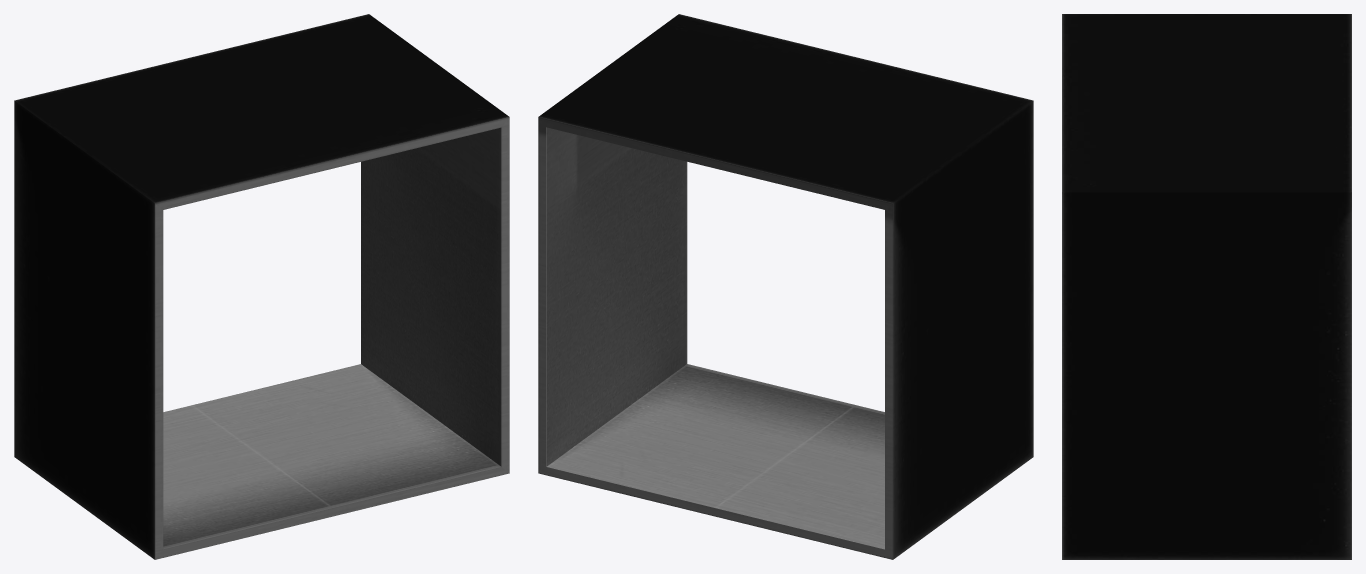
The model's file is case_4.gltf.
3 renders of one model, left to right at view 1: azimuth 30°, elevation 25°; view 2: azimuth 150°, elevation 25°; view 3: azimuth 270°, elevation 25°, orthographic. The views are drawn at different scales.
Parts seen in each view (by area): view 1: case_4; view 2: case_4; view 3: case_4.
Part boxes in pixels (x1,y1,x2,y2): case_4: (14, 14, 509, 559); case_4: (538, 14, 1033, 559); case_4: (1062, 14, 1351, 559).
Bounding box in the file's own units: 3.37 × 3.24 × 2.32.
1 material, 1 textured.
